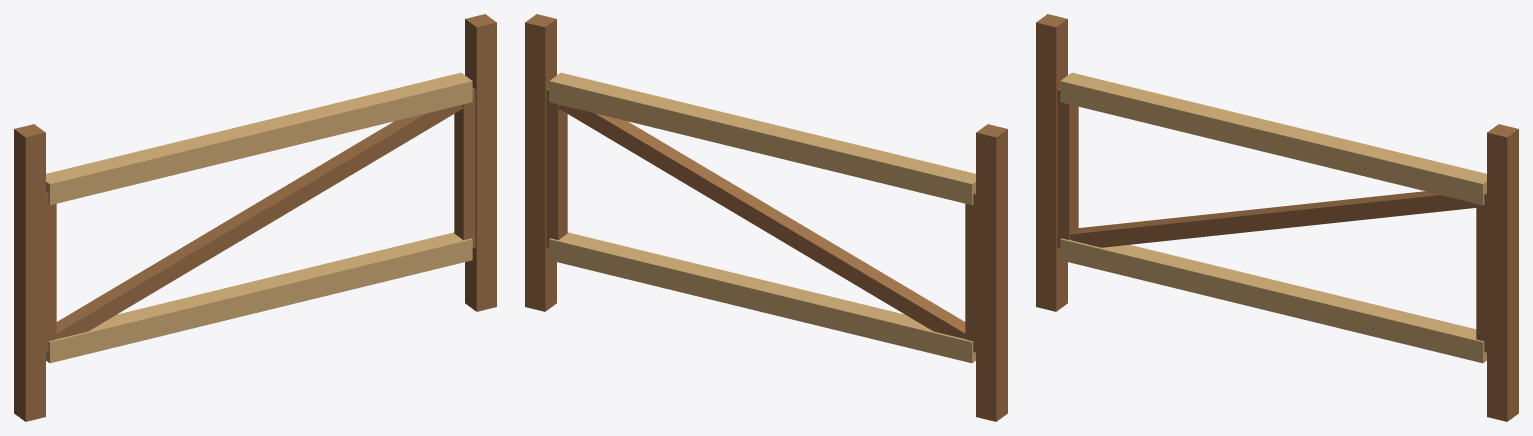
Rendered from TR3_Fence_Gate_Closed.glb.
3 renders of one model, left to right at view 1: azimuth 30°, elevation 25°; view 2: azimuth 150°, elevation 25°; view 3: azimuth 330°, elevation 25°, orthographic.
Parts seen in each view (by area): view 1: TR3_Fence_Gate_Closed; view 2: TR3_Fence_Gate_Closed; view 3: TR3_Fence_Gate_Closed.
Part boxes in pixels (x1,y1,x2,y2): TR3_Fence_Gate_Closed: [14, 14, 496, 421]; TR3_Fence_Gate_Closed: [525, 14, 1007, 421]; TR3_Fence_Gate_Closed: [1036, 14, 1518, 421].
Size of the model in its own units: 2.34 by 1.35 by 0.1.
